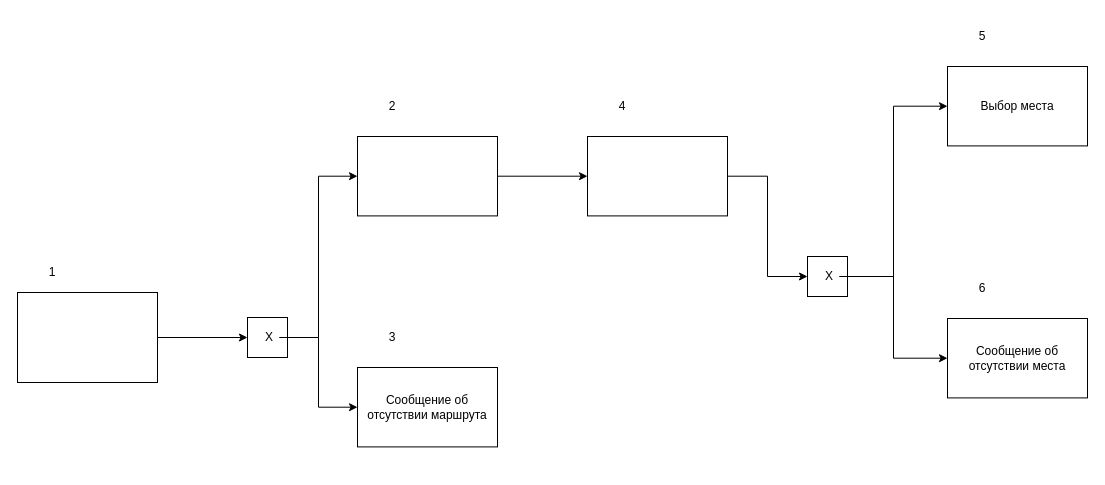
The diagram is 1105 pixels wide and 485 high, and some of its shapes have lost their labels. The shapes that lost their labels are listed below. From the top down, each one's centre as x and y in pixels, then its label:
At point 427,176: "Поиск маршрута".
At point 657,176: "Выбор поезда".
At point 87,337: "Вход в систему".
